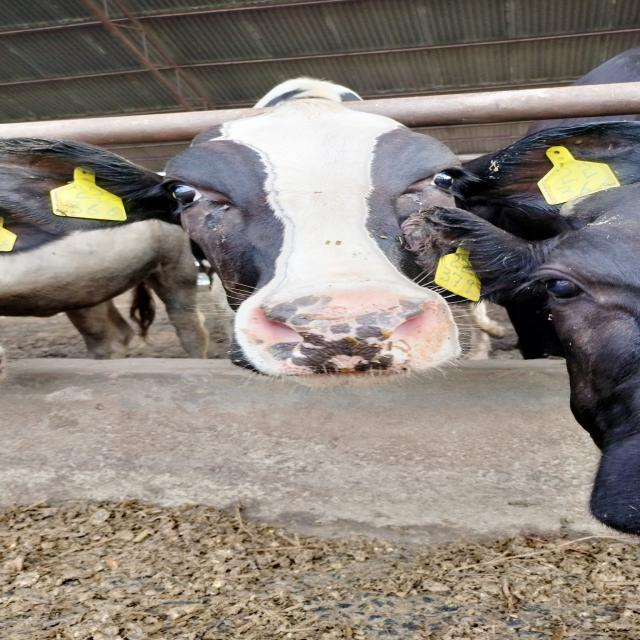muzzles: (232, 288, 462, 382)
